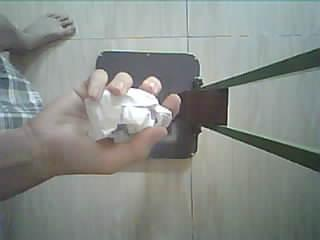paper: (84, 88, 172, 143)
